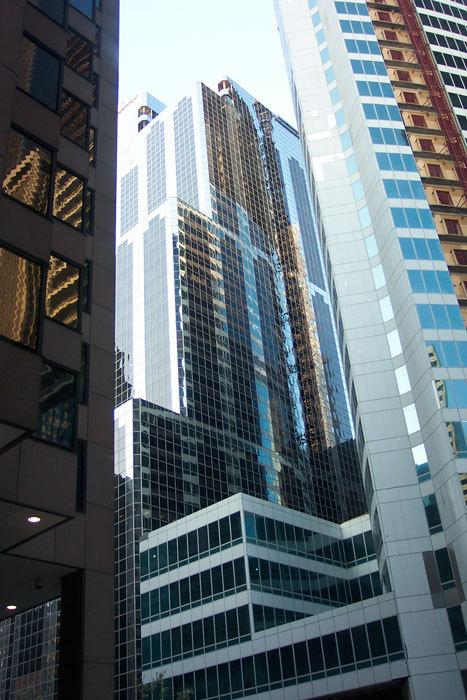building: (273, 0, 467, 700), (115, 77, 373, 525), (0, 0, 122, 700), (133, 493, 413, 700)
